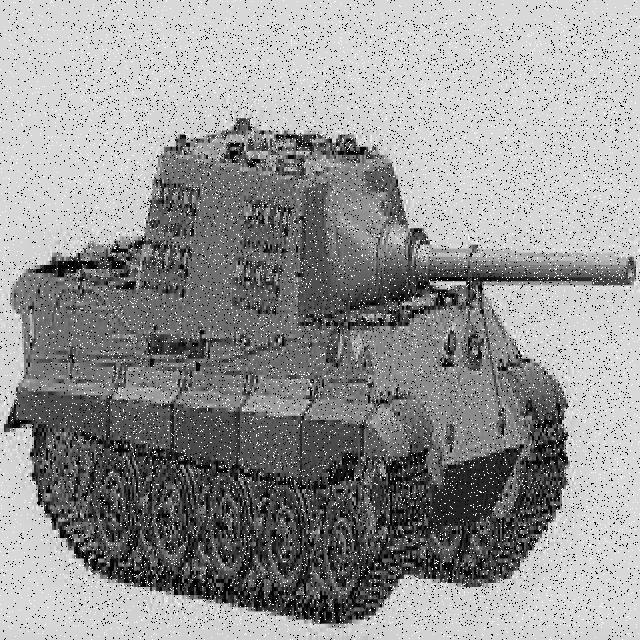MIL_MBT: (69, 23, 631, 626)
